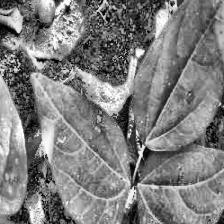ALS: (24, 71, 130, 224), (0, 22, 23, 219)
